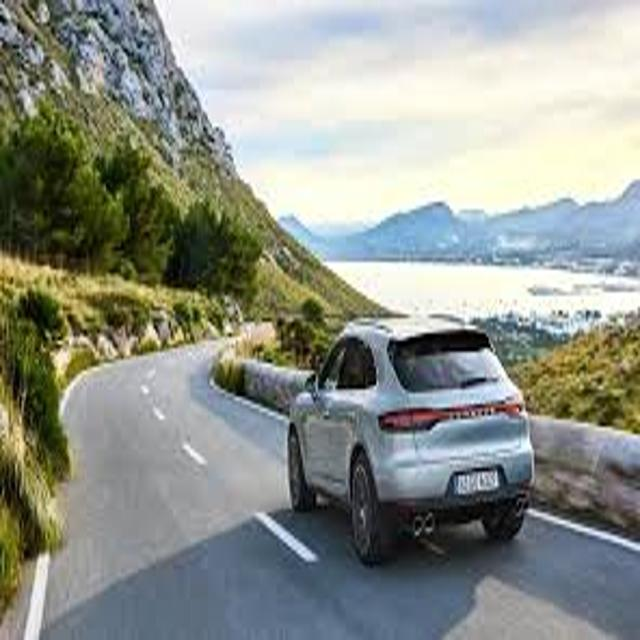car: (287, 319, 533, 562)
